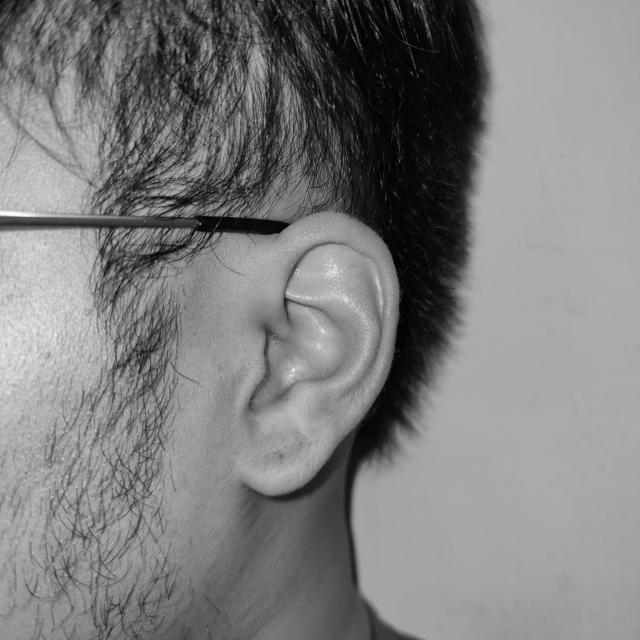ear: (236, 212, 398, 495), (258, 251, 260, 253), (257, 258, 260, 259)
